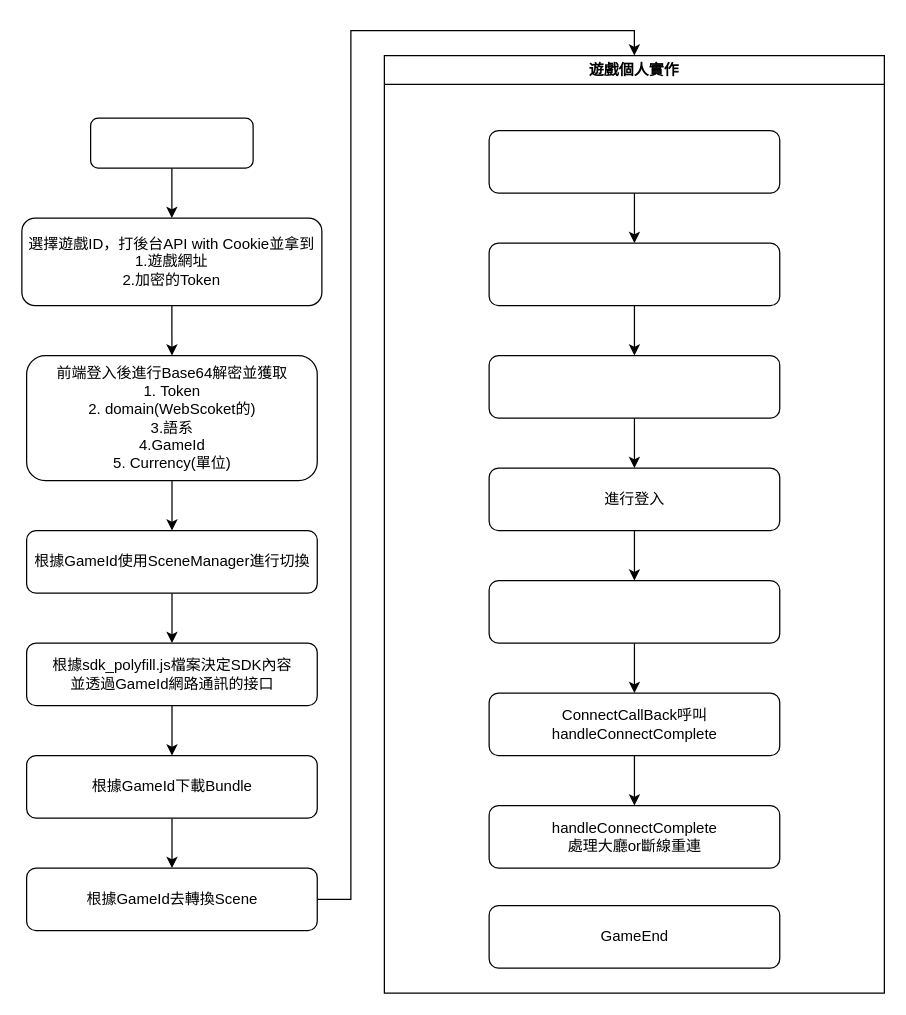
Image size: 906x1015. Some labels were removed from this diagram. The shapes that lost their labels are listed below. From the top down, each one's box as (x1, y1, x2, y2) in pixels, then its label:
(89, 117, 253, 168): 登入後台，設定Cookie
(488, 129, 780, 193): 切換場景為Loading
(488, 242, 780, 306): 進行WS連線
(488, 354, 780, 418): 下載Bundle
(488, 579, 780, 643): Login結束後呼叫ConnectCallBack
